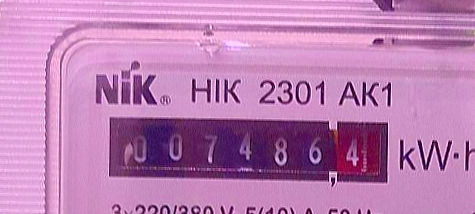0: (130, 131, 150, 165), (167, 129, 185, 163)
4: (236, 128, 254, 163), (344, 135, 361, 169)
6: (307, 134, 326, 166)
7: (199, 131, 222, 164)
8: (272, 134, 290, 170)
screen: (99, 105, 399, 195)
